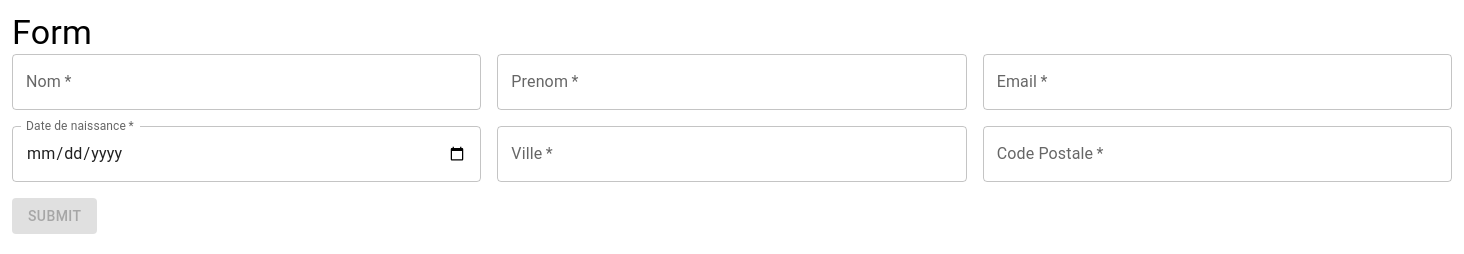
Test: Form coverage tests › le bouton submit est activé si tous les champs sont remplis
Type "Jean" into the field labelled "Nom *" at (247, 82), box [12,54,481,110]
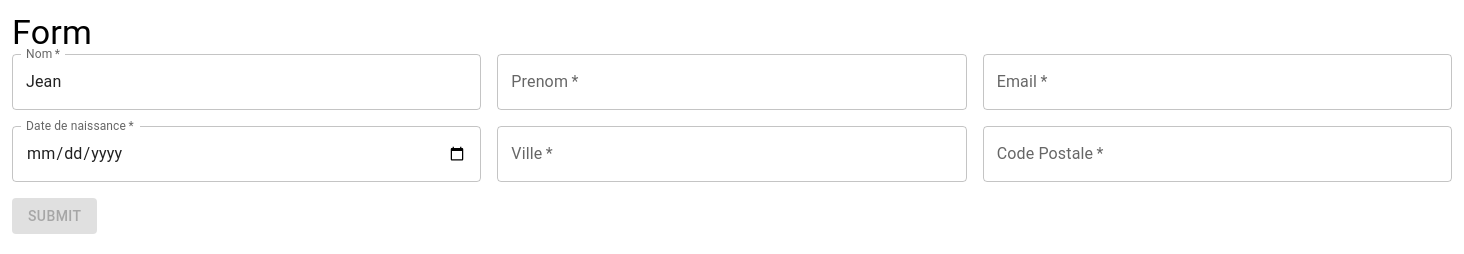
Type "Dupont" into the field labelled "Prenom *" at (732, 82), box [497,54,967,110]
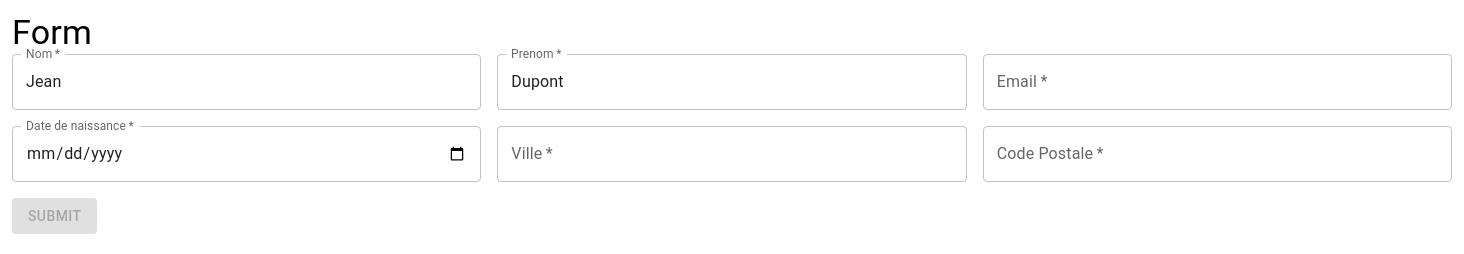
Type "jean@ex.com" into the field labelled "Email *" at (1217, 82), box [983,54,1452,110]
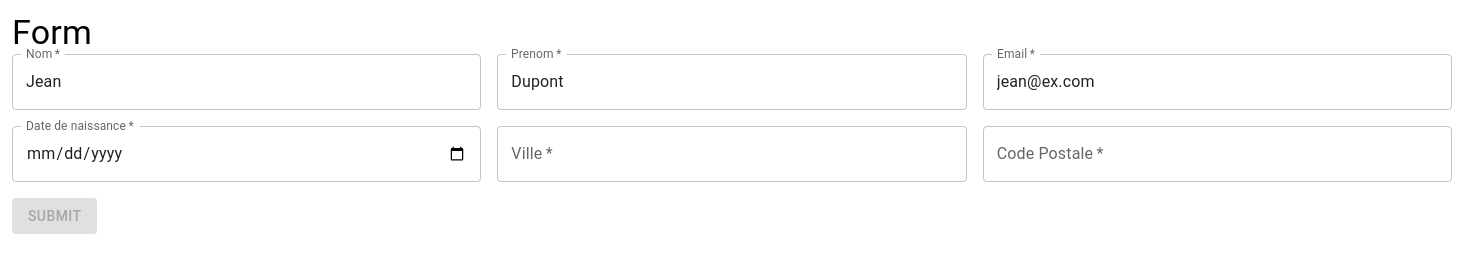
Type "2000-01-01" into the date field labelled "Date de naissance *" at (247, 154), box [12,126,481,182]
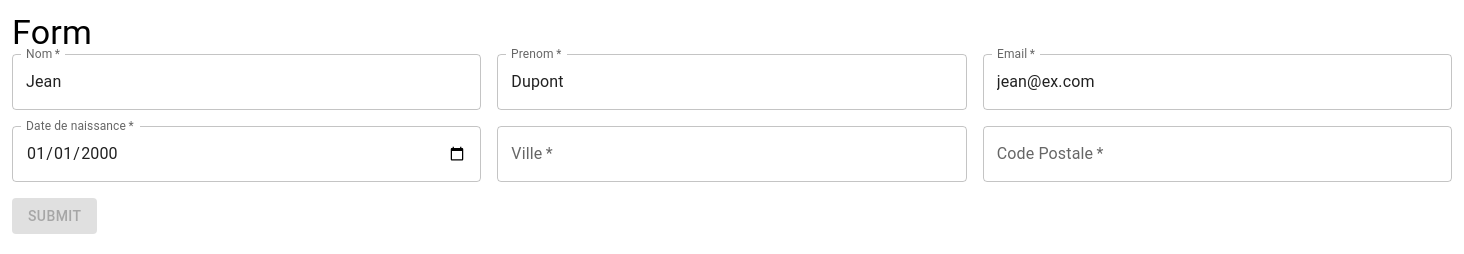
Type "Paris" into the field labelled "Ville *" at (732, 154), box [497,126,967,182]
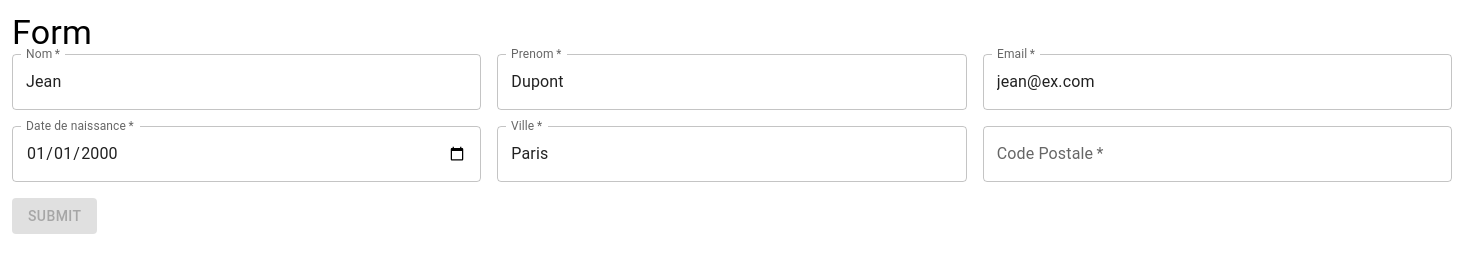
Type "75000" into the field labelled "Code Postale *" at (1217, 154), box [983,126,1452,182]
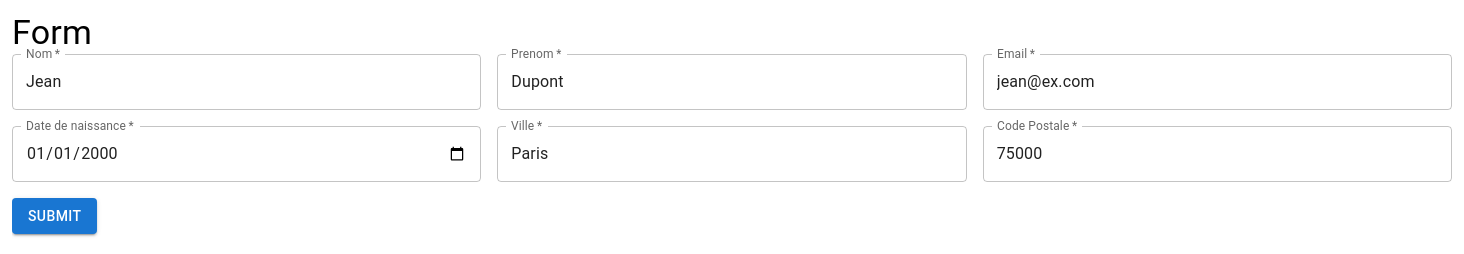
Result: the button "Submit" is enabled at [12,198,97,234]
